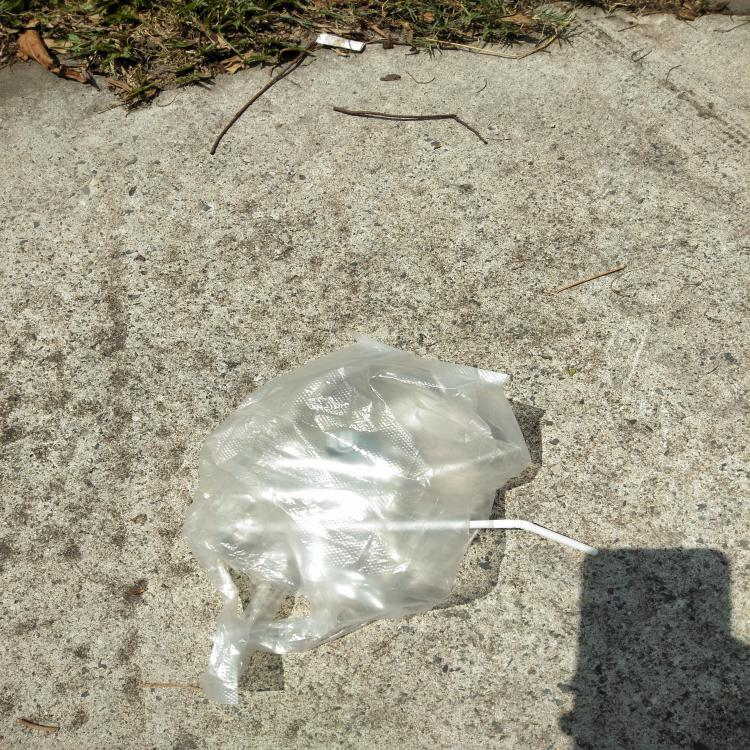Cigarette: (316, 32, 365, 52)
Plastic film: (183, 330, 531, 704)
Plastic straw: (354, 520, 598, 556)
